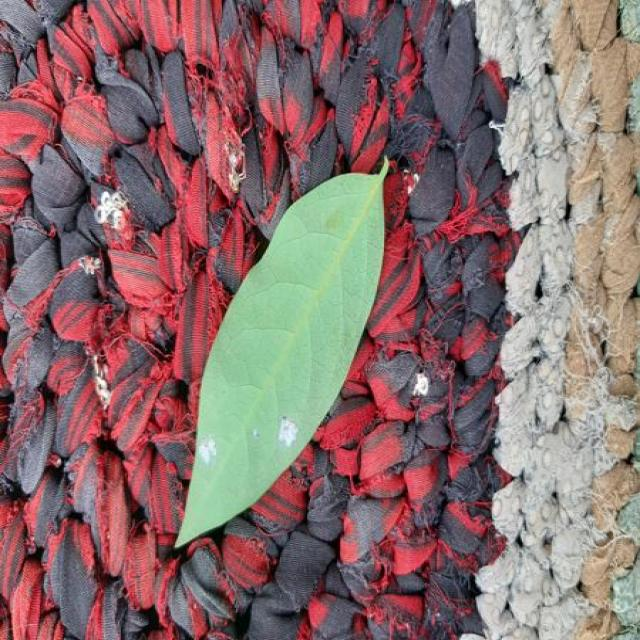amla: (178, 160, 386, 547), (202, 165, 386, 412)
